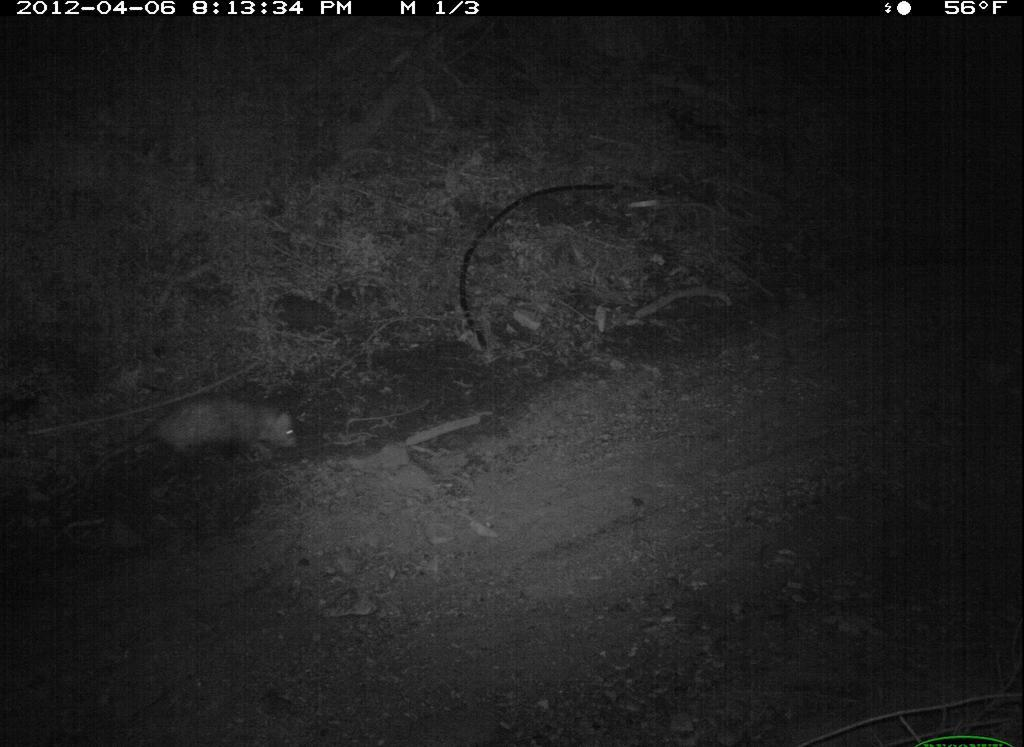opossum: (76, 393, 306, 497)
